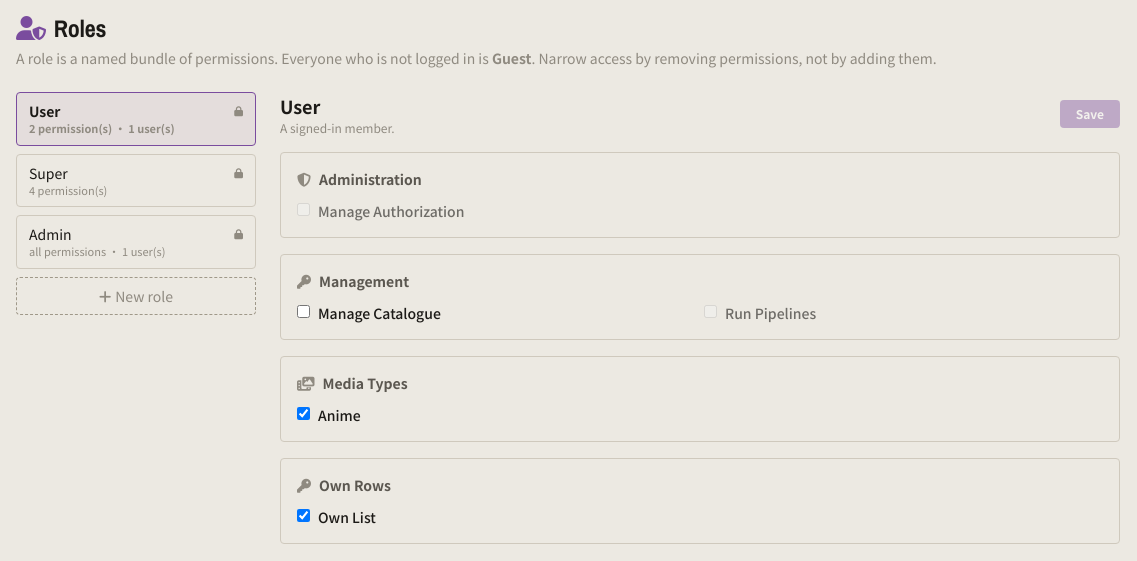
Scenario: the Super role › offers no Save button
Click the text "Super" at (48, 173), box top-left (29, 163), bottom-right (68, 183)
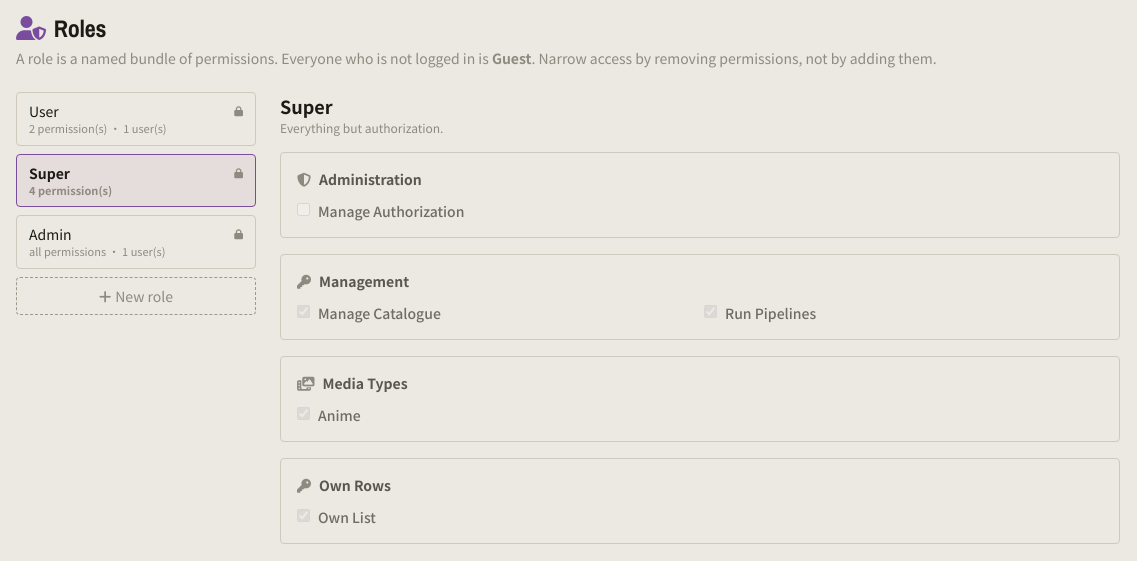
Expected: the button "Save" is gone
